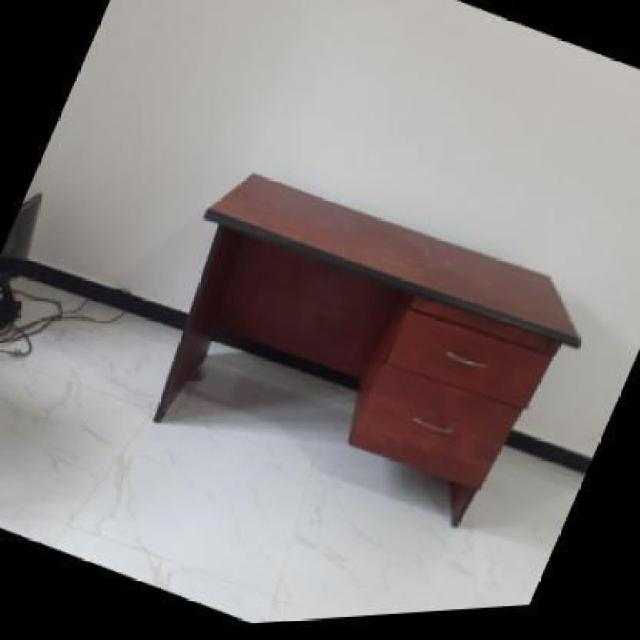tables: (151, 171, 580, 526)
